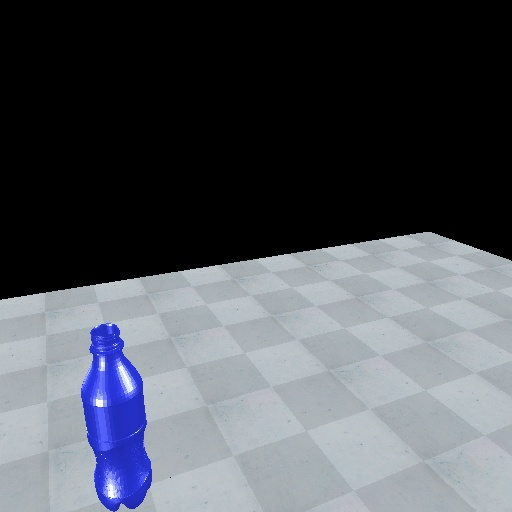bottle: (77, 321, 156, 512)
